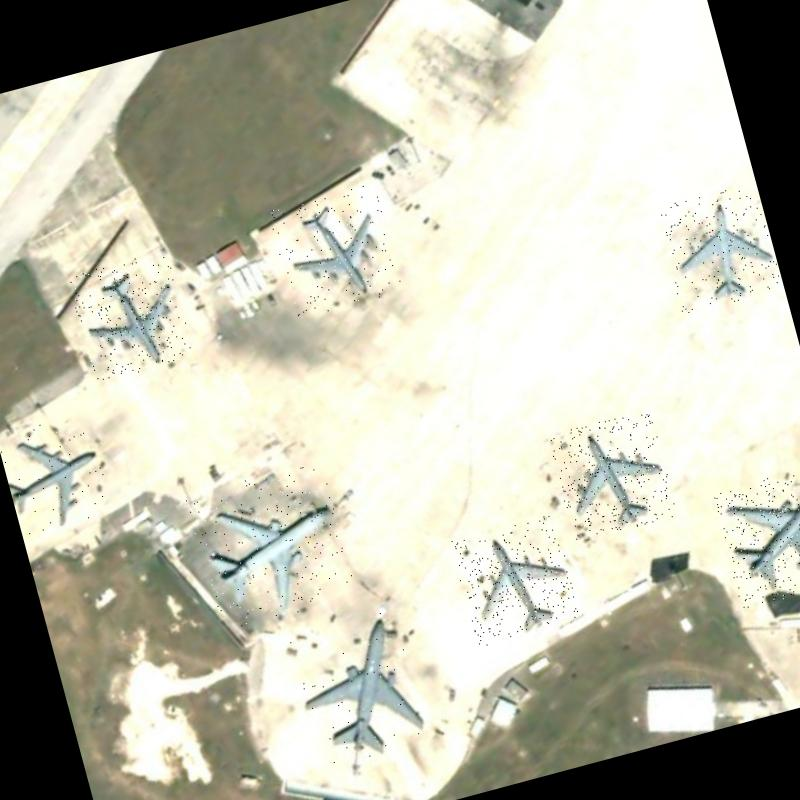A14: (267, 180, 403, 319), (449, 513, 582, 647), (546, 408, 678, 542), (654, 181, 783, 315), (66, 249, 194, 384), (0, 405, 116, 538)
A18: (184, 460, 358, 632), (284, 604, 436, 772), (710, 460, 800, 610)
